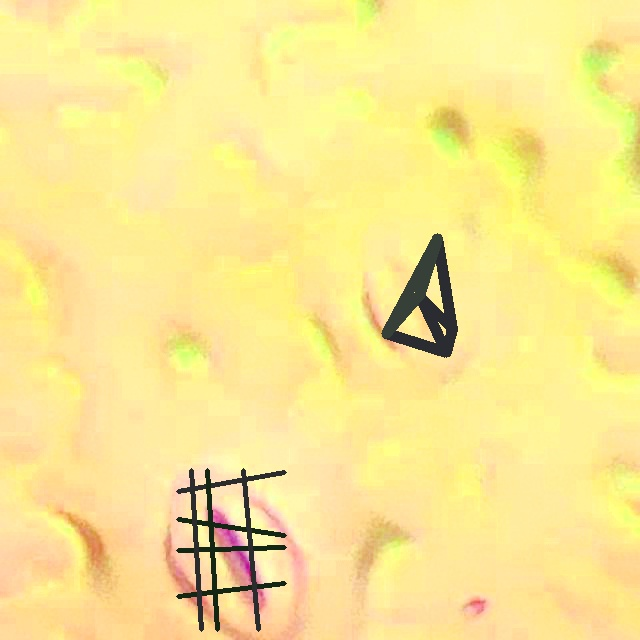close: (381, 234, 457, 356)
open: (176, 468, 286, 631)
